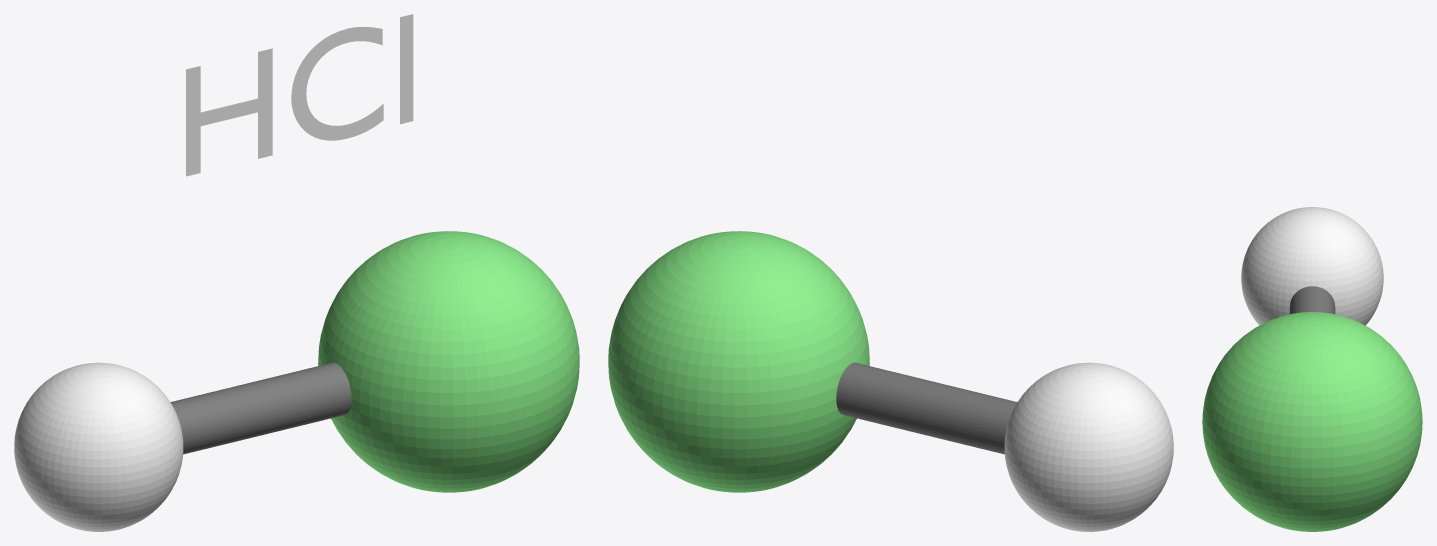
Rendered from HCl.glb.
3 views of the same model, side by side, from view 1: azimuth 30°, elevation 25°; view 2: azimuth 150°, elevation 25°; view 3: azimuth 270°, elevation 25° (orthographic). The views are drawn at different scales.
Parts seen in each view (by area): view 1: Cl, H, Bond_H_Cl, Label_HCl; view 2: Cl, H, Bond_H_Cl; view 3: Cl, H, Bond_H_Cl.
Boxes of the visible parts, x1,y1,x2,y2 form: Cl: (318,231,579,492); H: (14,362,183,531); Bond_H_Cl: (170,362,351,454); Label_HCl: (186,14,413,176); Cl: (608,231,869,492); H: (1004,362,1173,531); Bond_H_Cl: (836,362,1017,454); Cl: (1202,312,1422,531); H: (1241,207,1383,325); Bond_H_Cl: (1289,286,1335,313).
Bounding box in the file's own units: 1.61 × 1.37 × 0.68.
